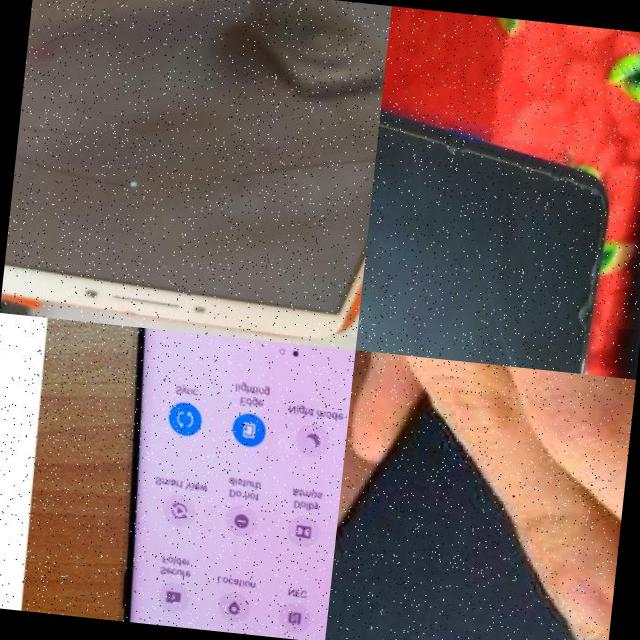screen crack: (8, 0, 391, 258), (459, 274, 576, 372), (423, 134, 614, 193)
